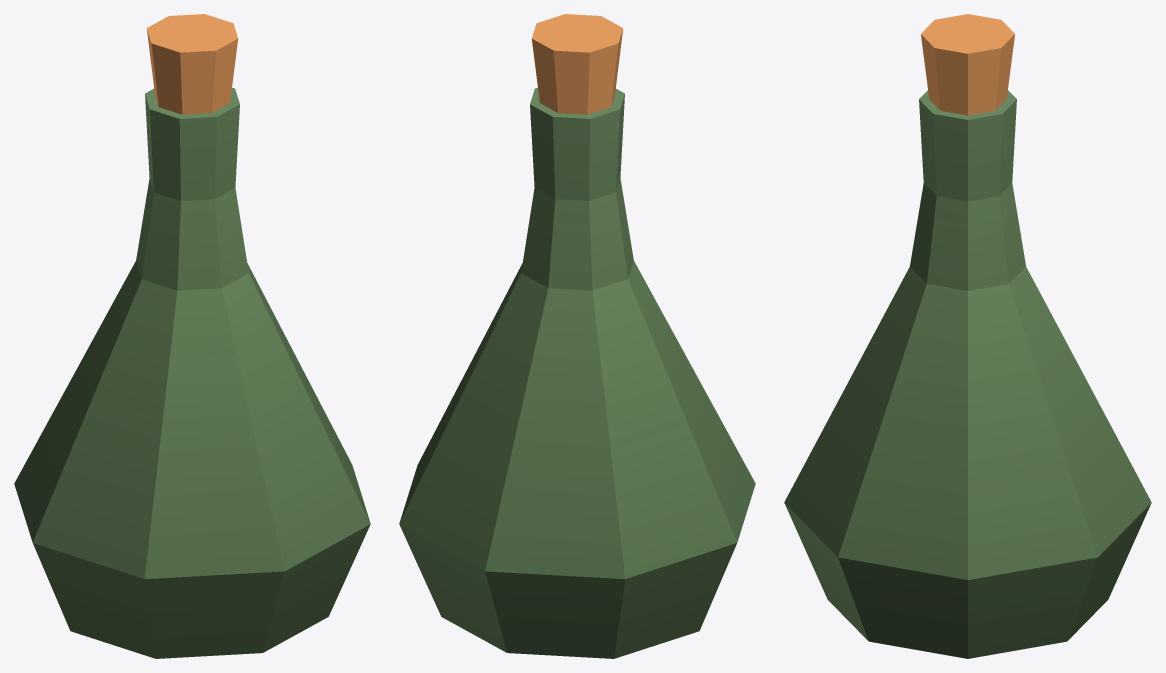
Rendered from KitchenProps_05.fbx.
3 views of the same model, side by side, from view 1: azimuth 30°, elevation 25°; view 2: azimuth 150°, elevation 25°; view 3: azimuth 270°, elevation 25° (orthographic).
Visible parts, largest first — view 1: KitchenProps_05, KitchenProps_05_2; view 2: KitchenProps_05, KitchenProps_05_2; view 3: KitchenProps_05, KitchenProps_05_2.
Part boxes in pixels (box(x1,y1,x2,y2)): KitchenProps_05: box(14, 87, 370, 658); KitchenProps_05_2: box(146, 14, 238, 114); KitchenProps_05: box(399, 87, 755, 658); KitchenProps_05_2: box(531, 14, 623, 114); KitchenProps_05: box(784, 90, 1151, 658); KitchenProps_05_2: box(921, 14, 1014, 115).
Size of the model in its own units: 8.29 by 14.08 by 8.29.
